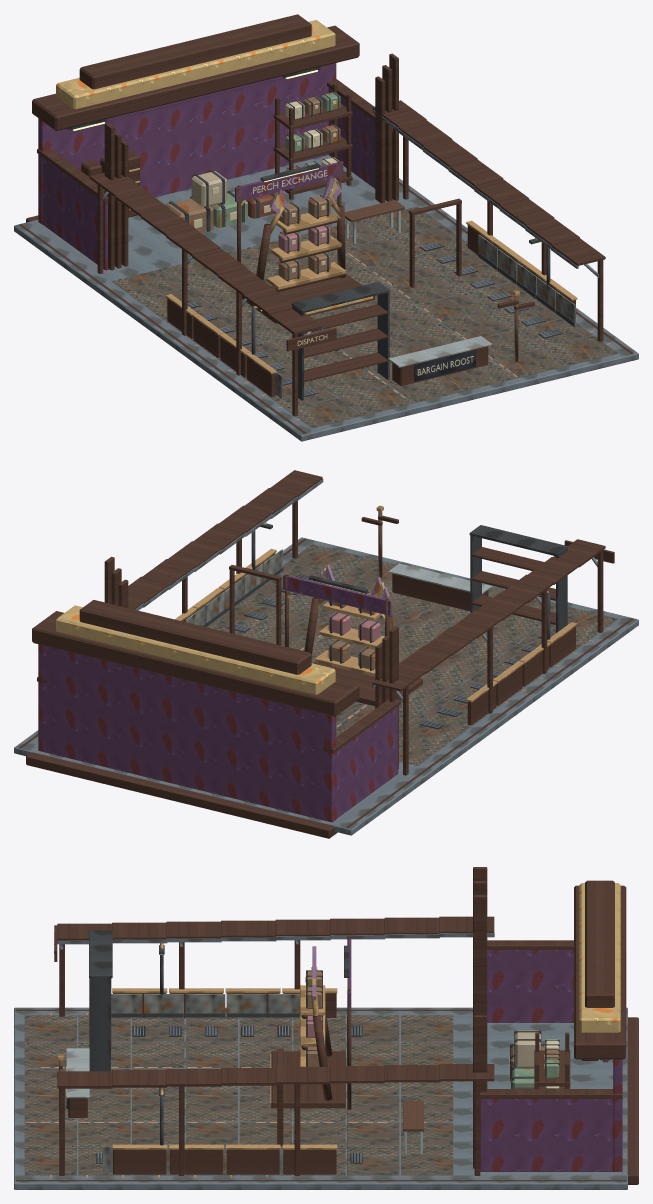
File: amethyne-depot.glb
3 renders of one model, top to bottom at view 1: azimuth 30°, elevation 25°; view 2: azimuth 150°, elevation 25°; view 3: azimuth 270°, elevation 25°, orthographic. The views are drawn at different scales.
Parts seen in each view (by area): view 1: amethyne-depot; view 2: amethyne-depot; view 3: amethyne-depot.
Part boxes in pixels (x1=…): amethyne-depot: x1=14, y1=14, x2=638, y2=441; amethyne-depot: x1=14, y1=470, x2=638, y2=838; amethyne-depot: x1=14, y1=867, x2=638, y2=1189.
Bounding box in the file's own units: 16.9 × 7.61 × 25.35.
22 materials, 20 textured.
